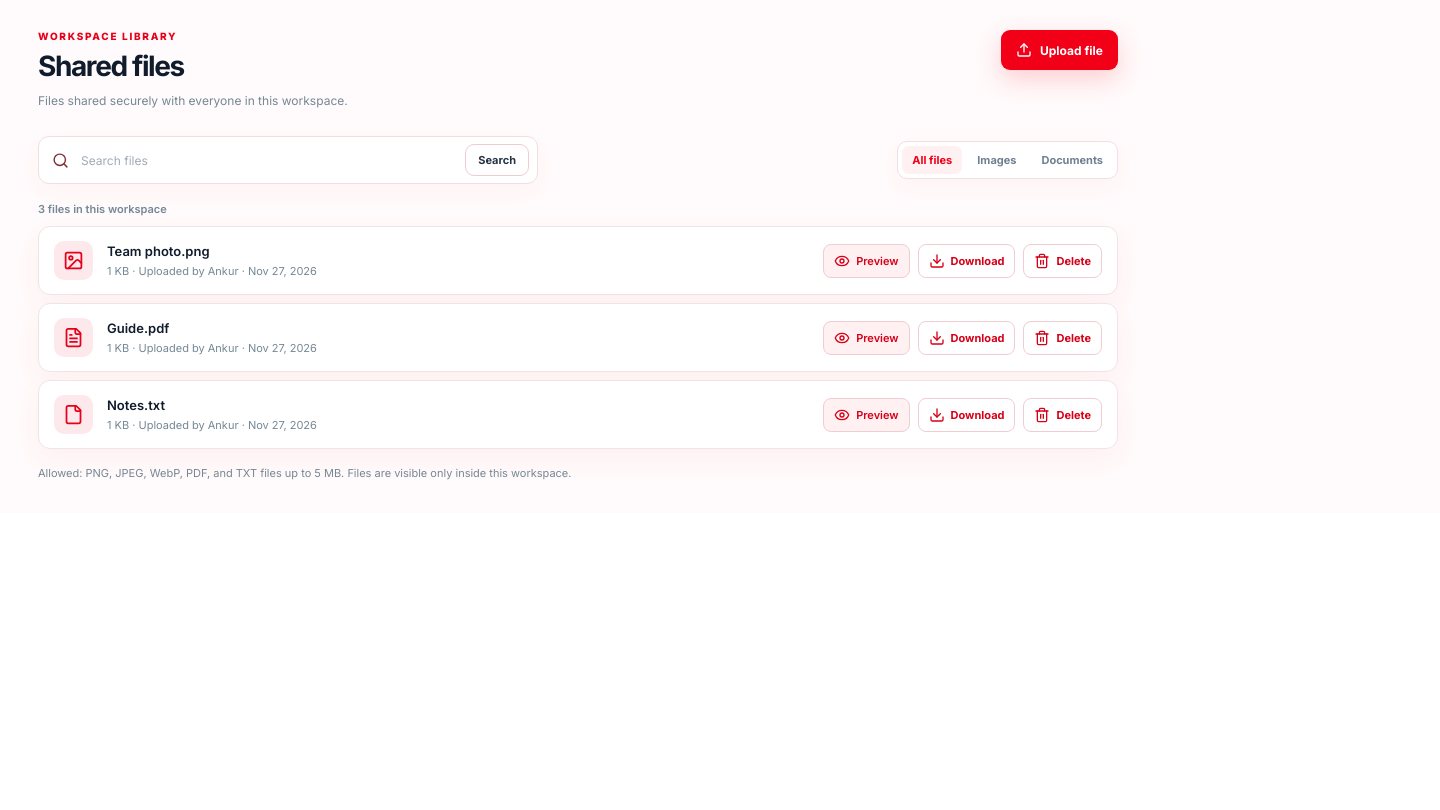
Test case: Shared file deletion › cancels without deleting and restores focus to the delete button
Click the button with aria-label "Delete Team photo.png" at (1063, 261), box [1024,244,1102,278]
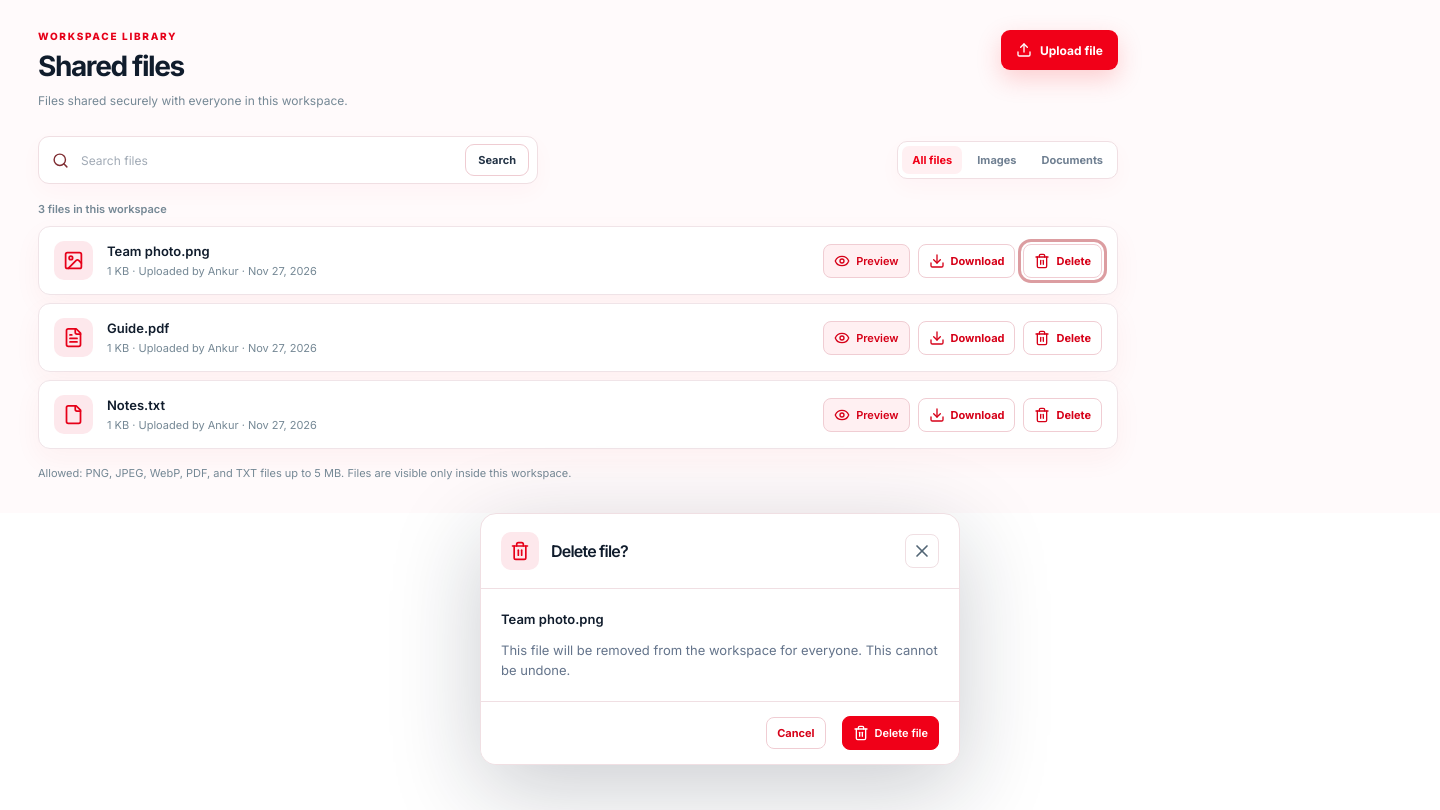
Click the button "Cancel" at (796, 733), box [766,717,826,749]
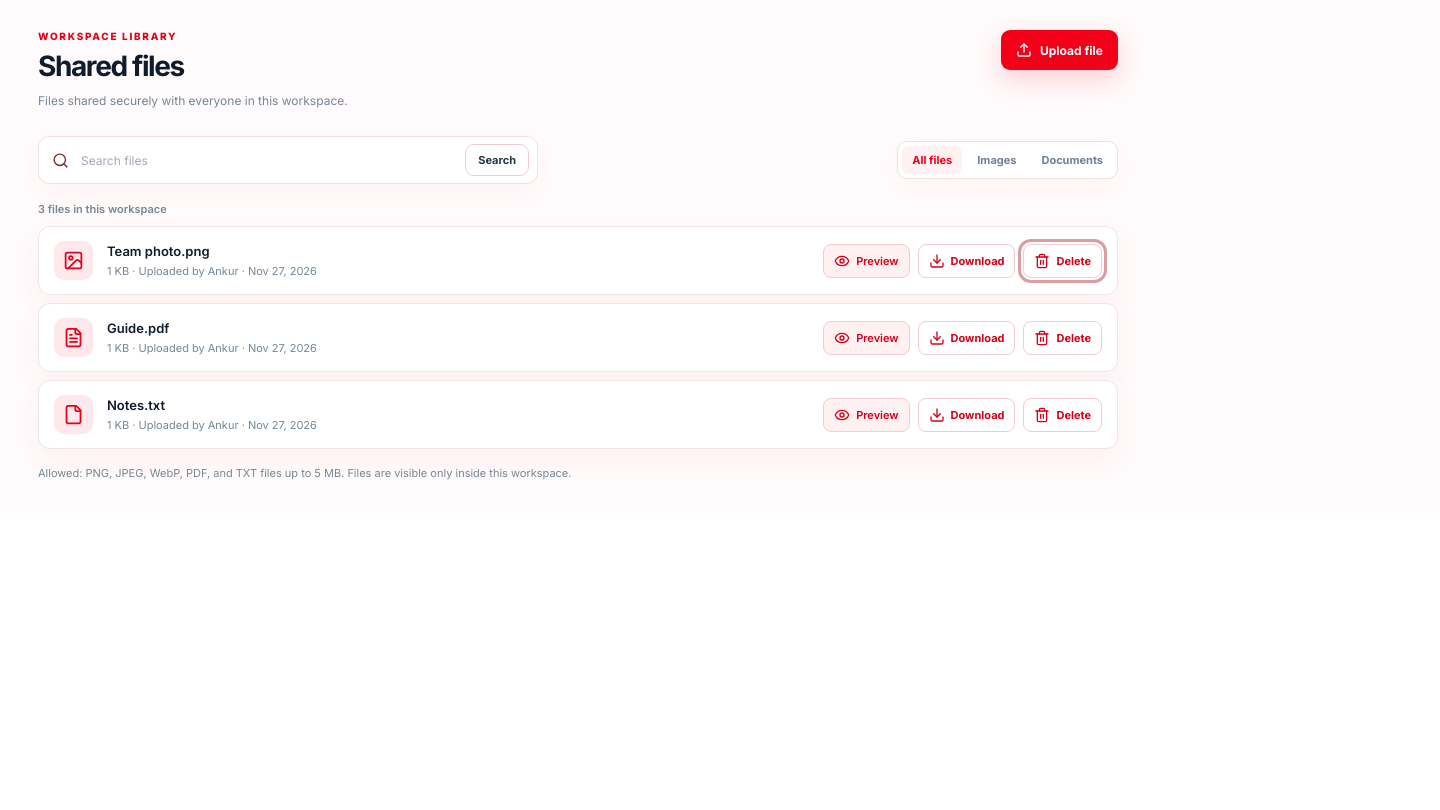
Expected: the dialog is gone
